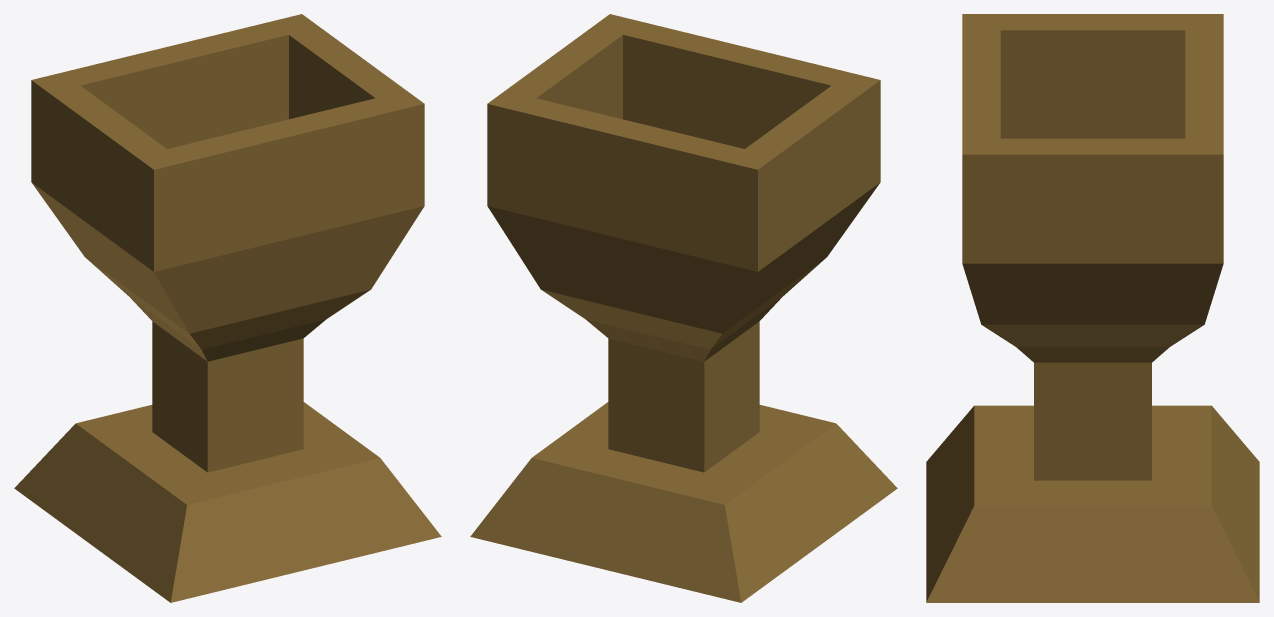
The model's file is Trophy_5.fbx.
The picture shows the model from 3 angles, left to right: view 1: azimuth 30°, elevation 25°; view 2: azimuth 150°, elevation 25°; view 3: azimuth 270°, elevation 25°; orthographic projection. The views are drawn at different scales.
Visible parts, largest first — view 1: Cube; view 2: Cube; view 3: Cube.
Part boxes in pixels (box(x1,y1,x2,y2)): Cube: box(14, 14, 441, 602); Cube: box(470, 14, 897, 602); Cube: box(926, 14, 1259, 602).
Bounding box in the file's own units: 281 × 416 × 281.
